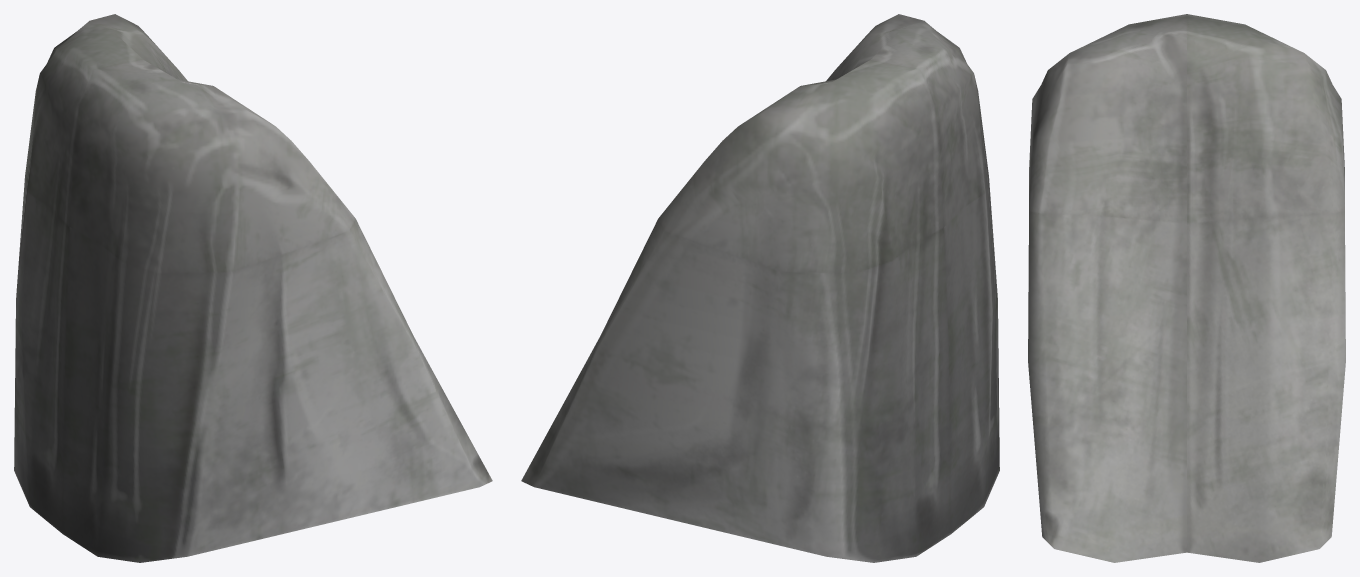
File: 15_R_Pequeña.fbx
3 views of the same model, side by side, from view 1: azimuth 30°, elevation 25°; view 2: azimuth 150°, elevation 25°; view 3: azimuth 270°, elevation 25° (orthographic). The views are drawn at different scales.
Parts seen in each view (by area): view 1: 15_R_Pequeña_Low; view 2: 15_R_Pequeña_Low; view 3: 15_R_Pequeña_Low.
Part boxes in pixels (x1,y1,x2,y2): 15_R_Pequeña_Low: (14, 14, 492, 562); 15_R_Pequeña_Low: (521, 14, 999, 562); 15_R_Pequeña_Low: (1028, 14, 1345, 562).
Size of the model in its own units: 396 by 486 by 340.
